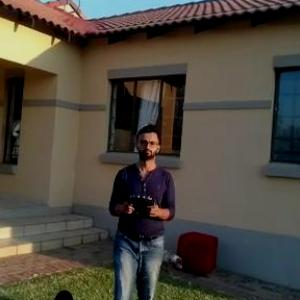follow: (103, 116, 182, 299)
